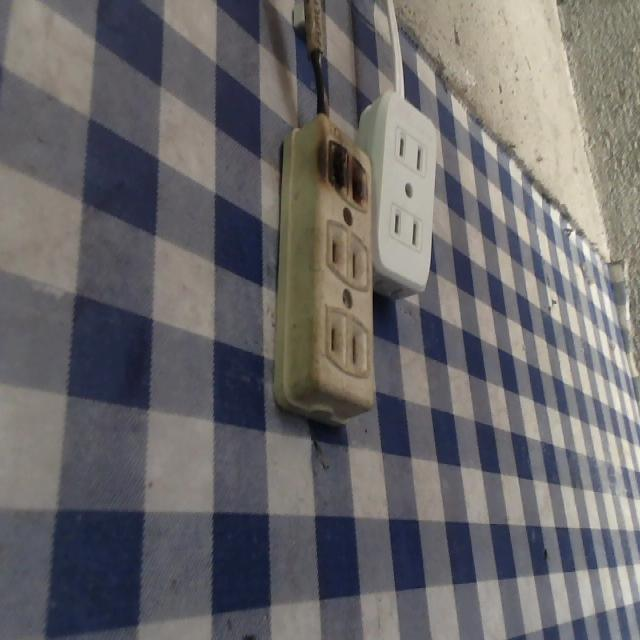-: (316, 132, 386, 215)
